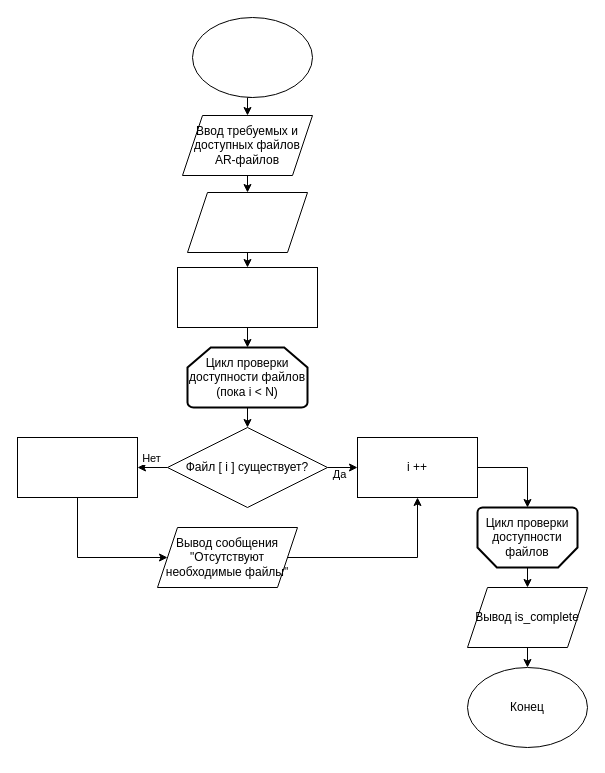
Image size: 605x773. Some labels were removed from this diagram. Each missing label, with the box of its shape:
i = 0, is_complete = true: (176, 266, 318, 328)
is_complete = false: (16, 436, 138, 498)
Начало: (192, 16, 312, 98)
Создание HashSet доступных файлов: (186, 192, 308, 252)
